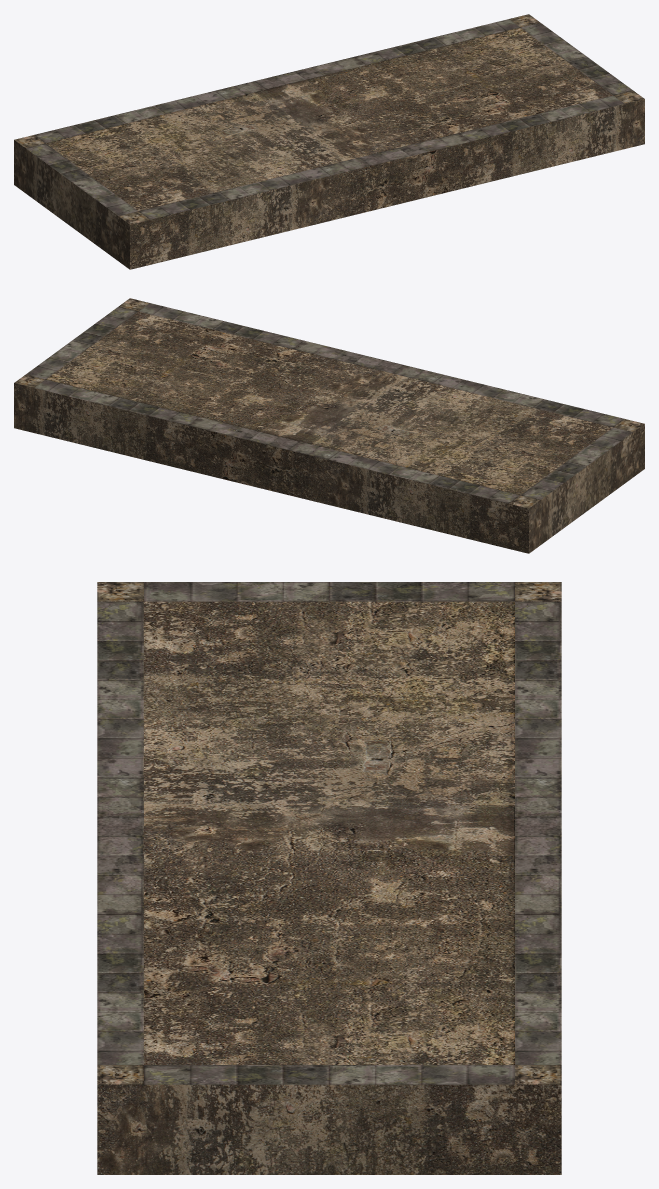
File: materials_5_floor_rectangle_12.fbx
The picture shows the model from 3 angles, top to bottom: view 1: azimuth 30°, elevation 25°; view 2: azimuth 150°, elevation 25°; view 3: azimuth 270°, elevation 25°; orthographic projection. The views are drawn at different scales.
Parts seen in each view (by area): view 1: materials_5_floor_rectangle_12; view 2: materials_5_floor_rectangle_12; view 3: materials_5_floor_rectangle_12.
Part boxes in pixels (left/top/right/bottom): materials_5_floor_rectangle_12: left=14, top=14, right=644, bottom=269; materials_5_floor_rectangle_12: left=14, top=298, right=644, bottom=553; materials_5_floor_rectangle_12: left=97, top=582, right=561, bottom=1174.
Bounding box in the file's own units: 512 × 42.89 × 200.
